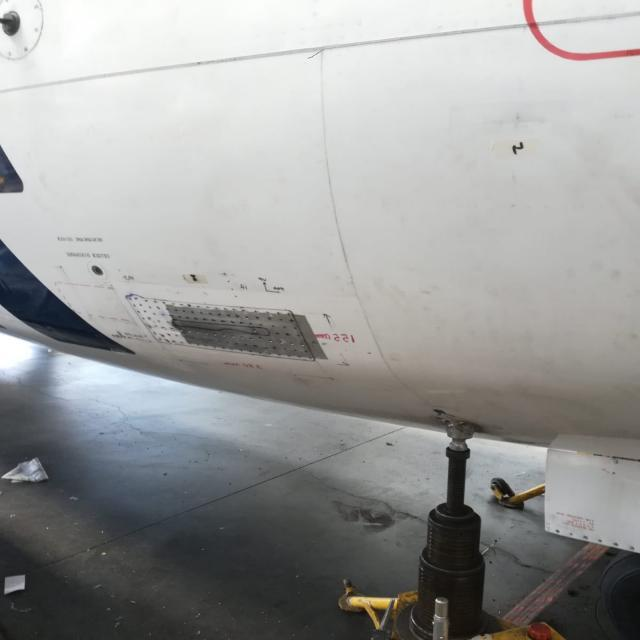crack: (304, 46, 327, 59)
